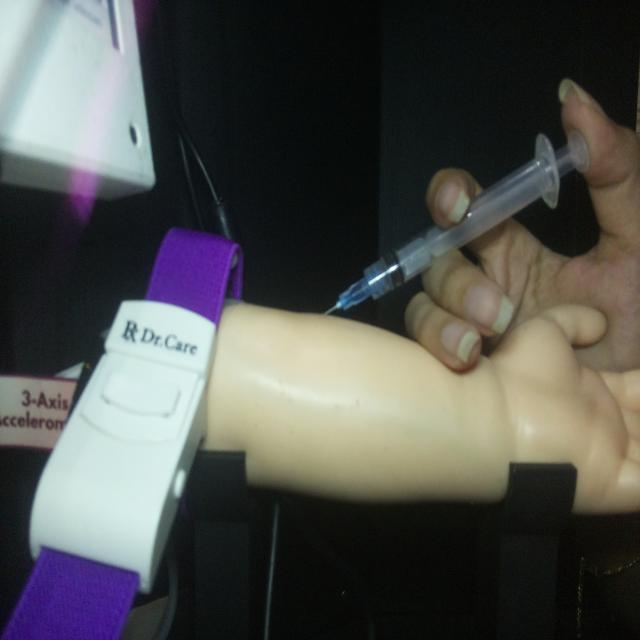25 degrees: (322, 125, 590, 318)
